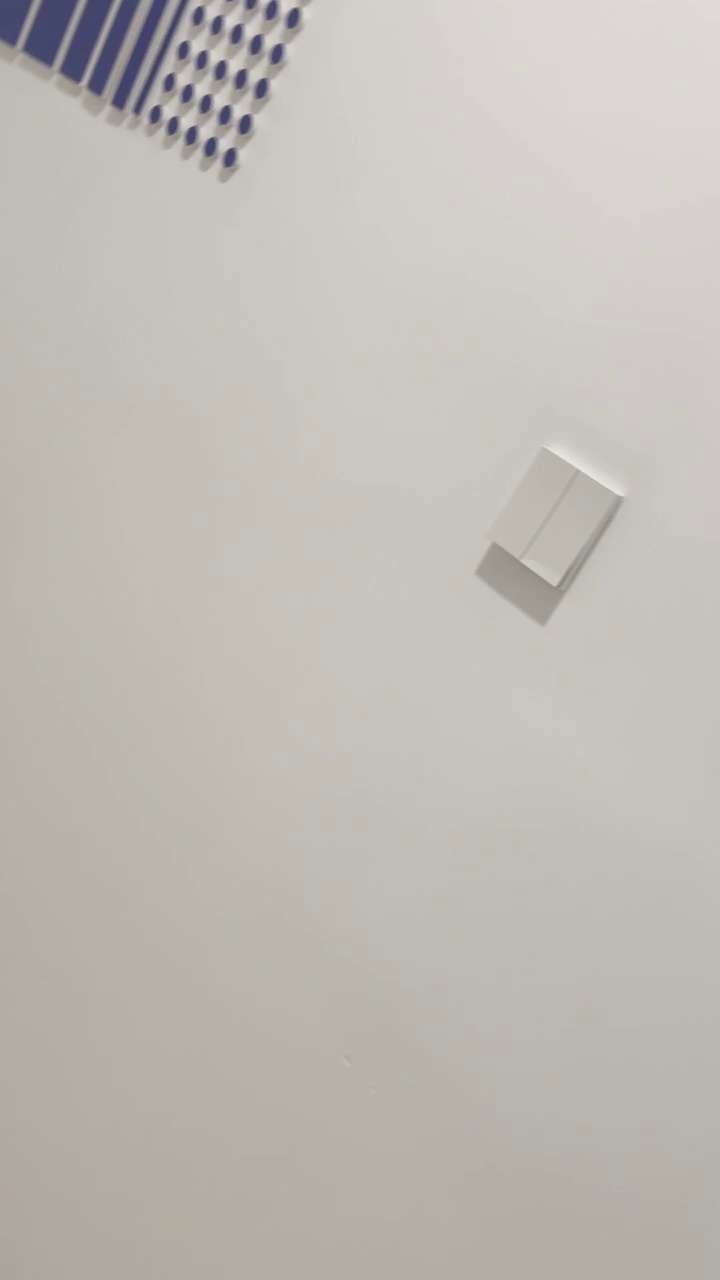button: (476, 440, 627, 598)
